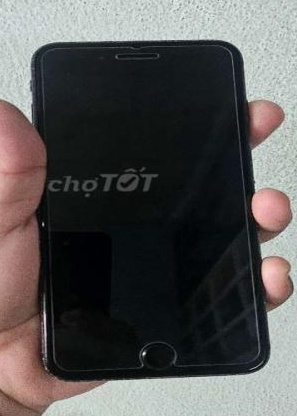scratch: (46, 369, 256, 380), (49, 38, 229, 50), (35, 294, 54, 373), (25, 45, 41, 123), (35, 217, 46, 229), (136, 346, 149, 356), (167, 355, 179, 363)
